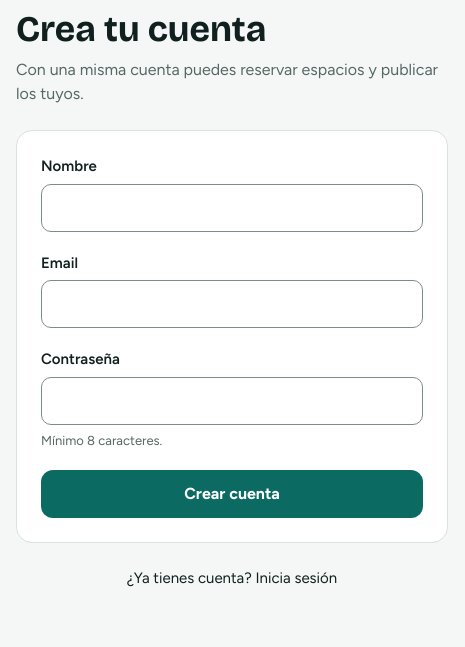
Test: RegisterPage › muestra un error general si el servidor falla
In the field labelled "Nombre": [232, 208] box [41, 184, 423, 232], type "Ana"
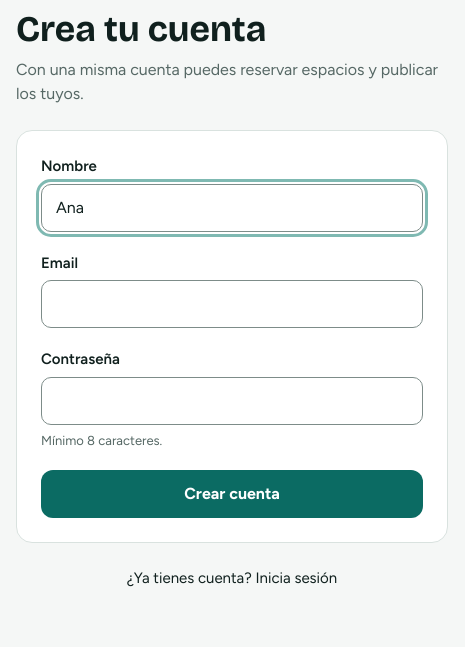
In the field labelled "Email": [232, 304] box [41, 280, 423, 328], type "ana@mail.com"
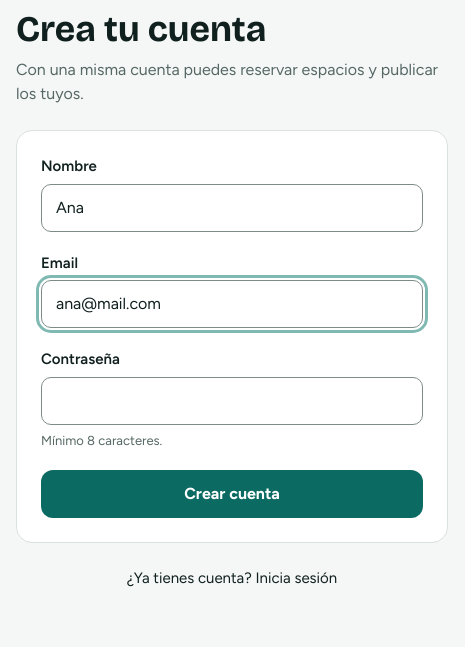
In the password field labelled "Contraseña": [232, 400] box [41, 376, 423, 424], type "Password123"
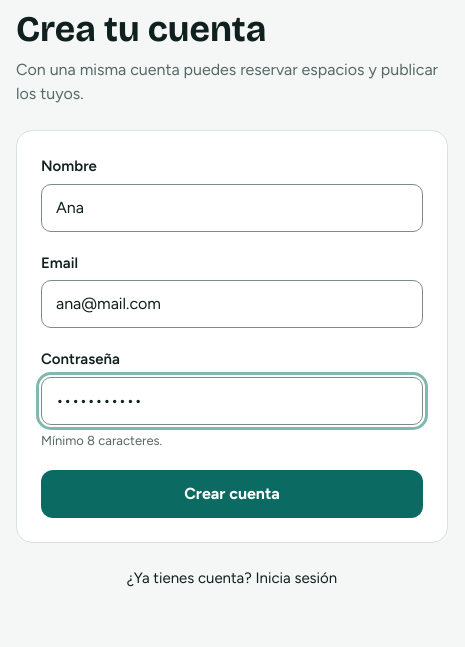
Click the button "Crear cuenta": [232, 494] box [41, 470, 423, 518]
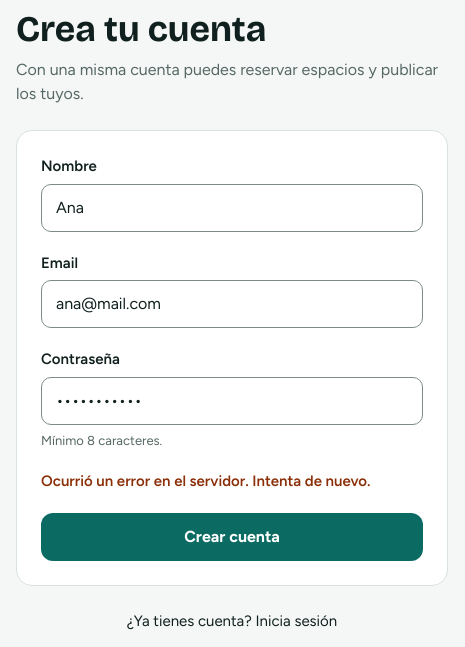
Now the message shows "Ocurrió un error en el servidor.", box [41, 472, 370, 490]
